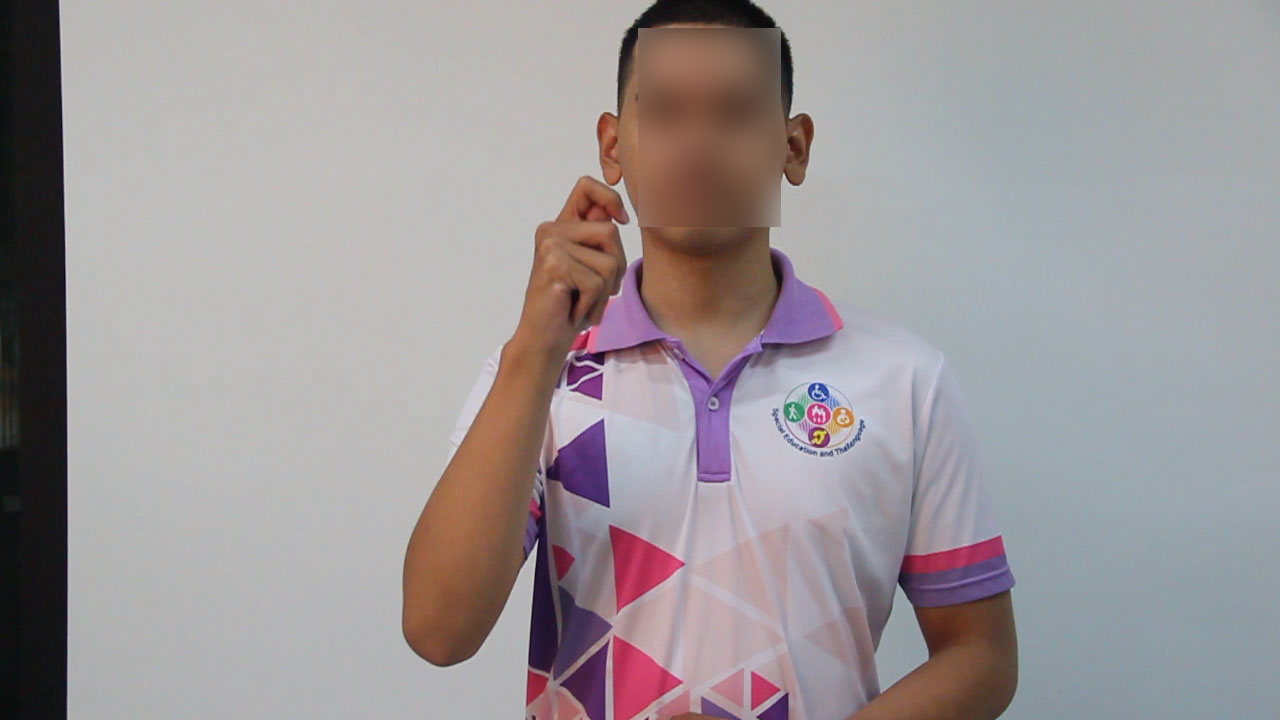or: (517, 170, 635, 368)
